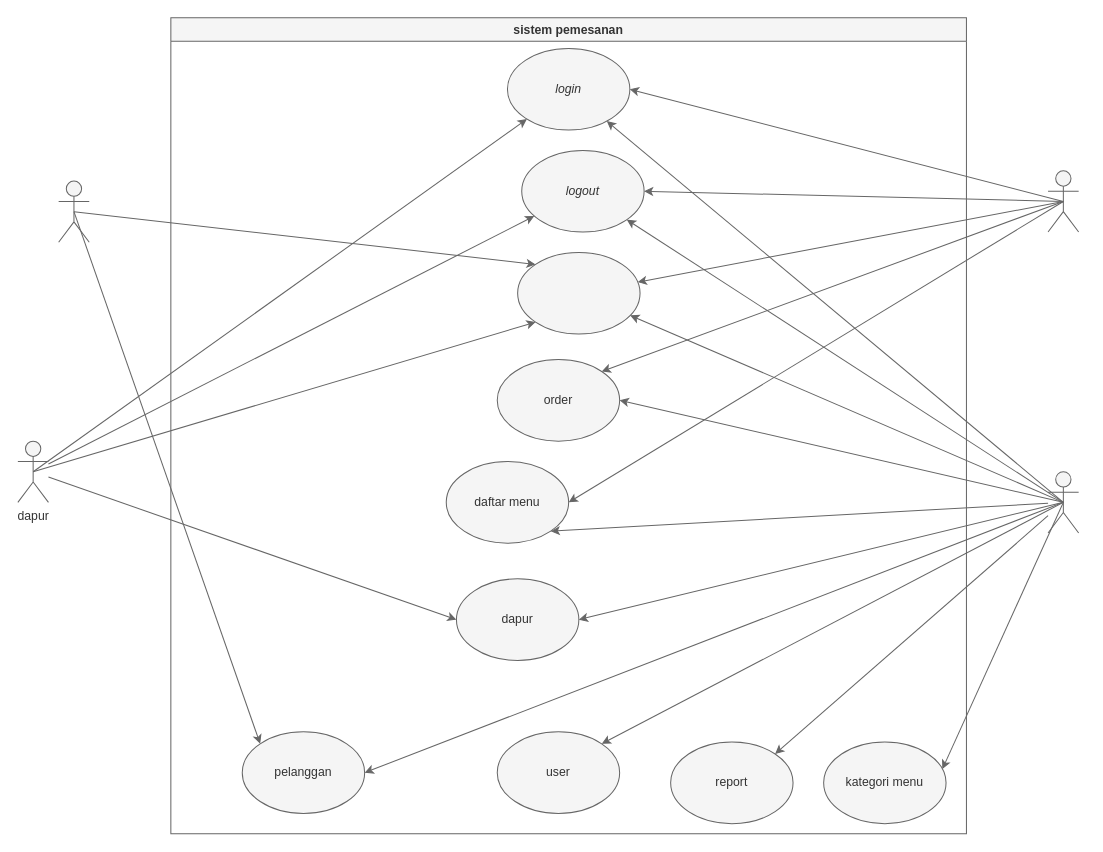
Some shapes in this 1103 by 852 pixel diagram are drawn without their labels. Each missing label, with the centre of its shape:
admin: pixel 1063 502
customer: pixel 73 211
home: pixel 578 292
pelayan: pixel 1063 201
